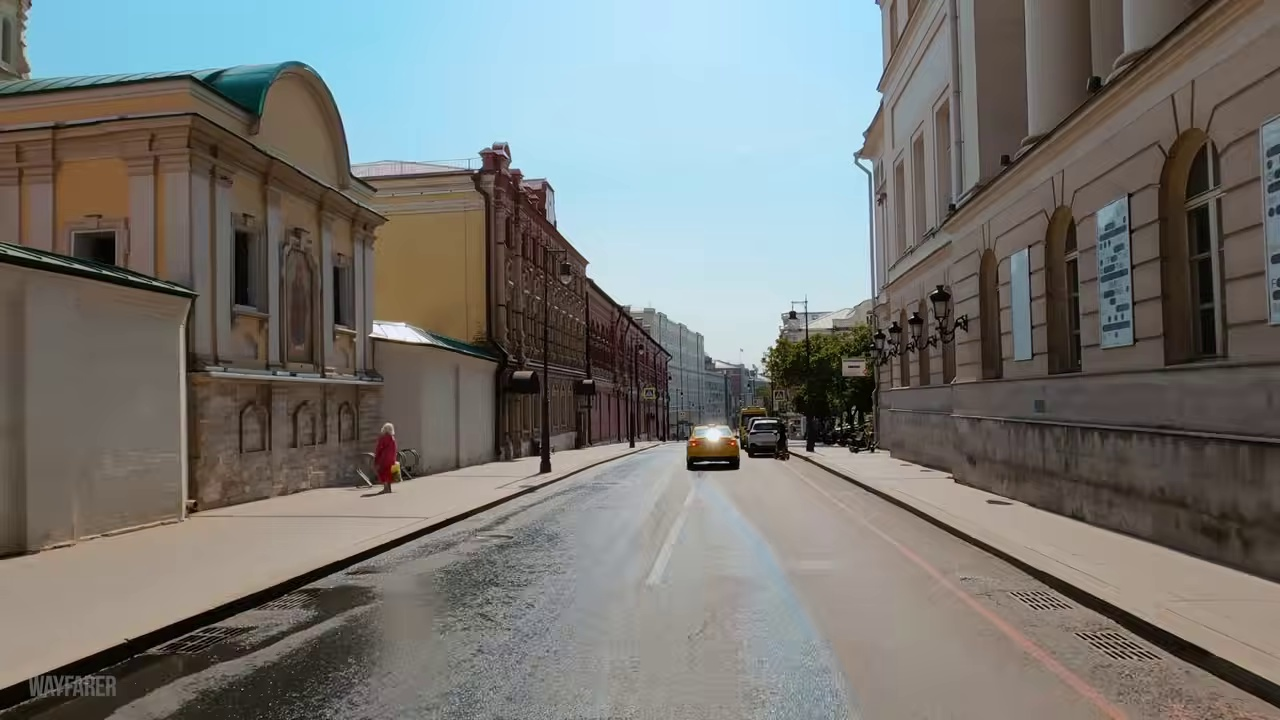apagada: (552, 263, 576, 287)
